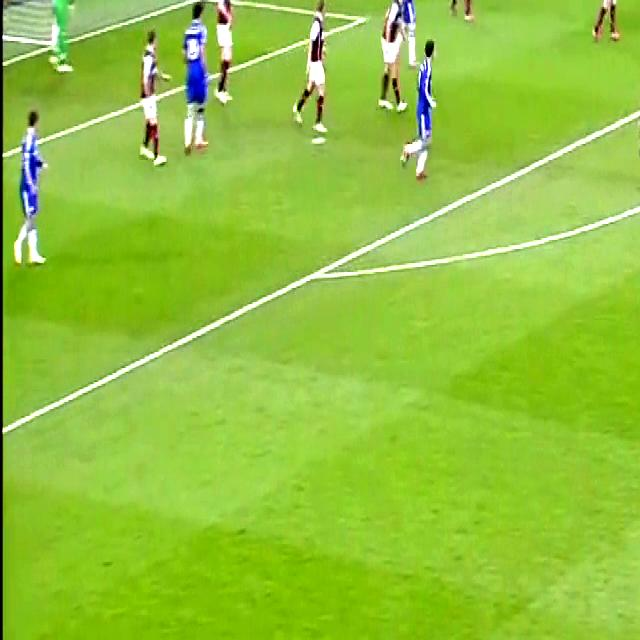goalkeeper: (46, 0, 79, 76)
referee: (630, 27, 640, 197)
soccer-player: (9, 92, 55, 278), (290, 0, 340, 153), (175, 0, 219, 167), (403, 28, 448, 187), (128, 14, 170, 180), (212, 0, 249, 100), (376, 0, 409, 110), (384, 0, 420, 78), (586, 0, 628, 50), (439, 0, 481, 25)
